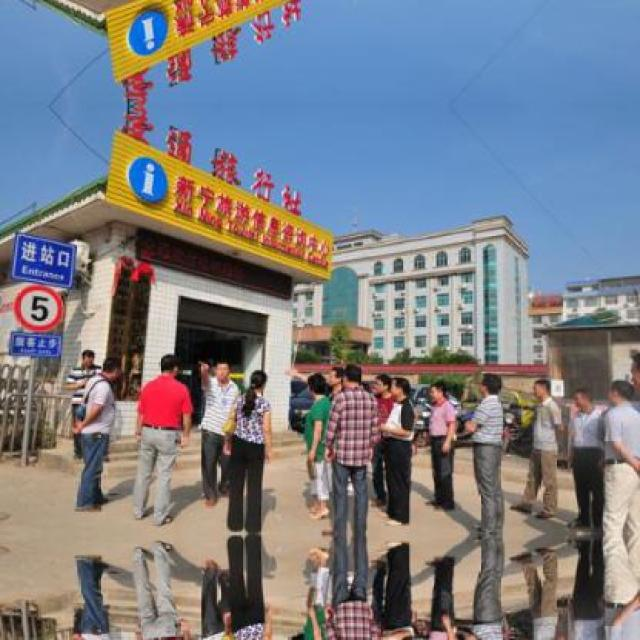nohelmet: (341, 357, 364, 398), (605, 379, 636, 408), (479, 368, 502, 400), (569, 384, 595, 412), (306, 372, 328, 401), (427, 379, 449, 408), (372, 370, 395, 397), (387, 375, 411, 399), (158, 351, 180, 377), (530, 379, 553, 403), (248, 368, 269, 394), (212, 362, 232, 383), (104, 358, 120, 380), (81, 348, 97, 366)
